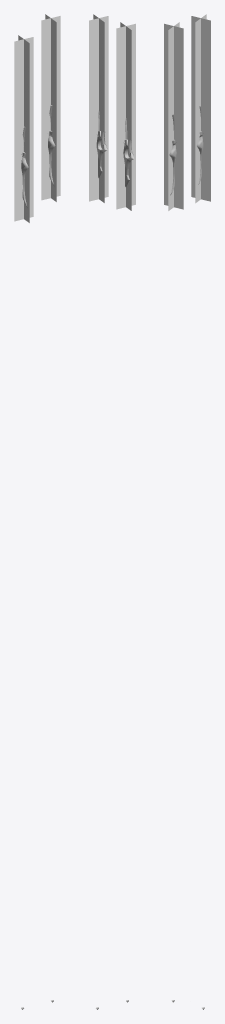
The model's file is Eff_Nachtjigger_skill_0_Bullet.FBX.
The picture shows the model from 3 angles, left to right: view 1: azimuth 30°, elevation 25°; view 2: azimuth 210°, elevation 25°; view 3: azimuth 330°, elevation 25°; orthographic projection.
Visible parts, largest first — view 1: sword_trail, sword_trail01, sword02, sword01; view 2: sword_trail01, sword_trail, sword01, sword02; view 3: sword_trail01, sword_trail, sword01, sword02.
Part boxes in pixels (x1,y1,x2,y2): sword_trail: [14, 35, 33, 222]; sword_trail01: [41, 14, 60, 201]; sword02: [48, 105, 55, 186]; sword01: [21, 126, 28, 207]; sword_trail01: [89, 14, 108, 202]; sword_trail: [116, 22, 135, 210]; sword01: [123, 118, 133, 186]; sword02: [96, 110, 107, 177]; sword_trail01: [191, 14, 210, 203]; sword_trail: [164, 22, 183, 210]; sword01: [169, 114, 176, 195]; sword02: [197, 106, 203, 184].
Size of the model in its own units: 0.824 by 16.67 by 0.414.
